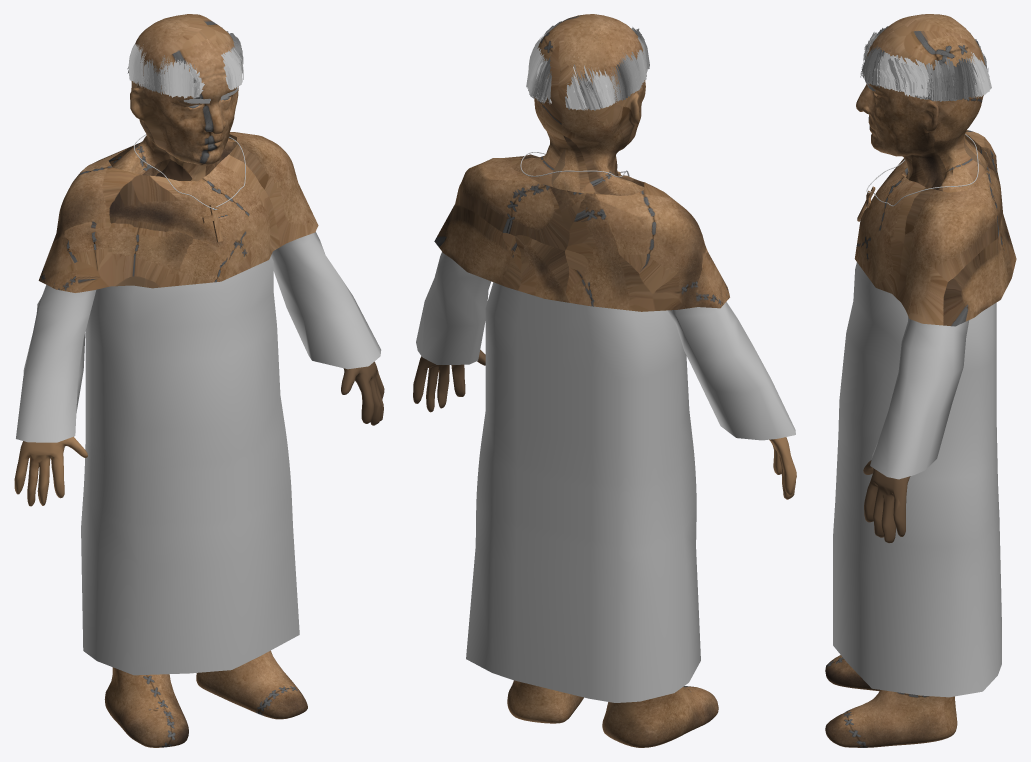
Rendered from Priest fbx model.fbx.
3 views of the same model, side by side, from view 1: azimuth 30°, elevation 25°; view 2: azimuth 150°, elevation 25°; view 3: azimuth 270°, elevation 25° (orthographic). The views are drawn at different scales.
Visible parts, largest first — view 1: Plane.001, Plane.002, Low poly, Plane.003, Plane.004, Mesh; view 2: Plane.001, Plane.002, Low poly, Plane.003, Plane.004, Mesh; view 3: Plane.001, Plane.002, Low poly, Plane.003, Plane.004, Mesh.
Boxes of the visible parts, x1,y1,x2,y2 form: Plane.001: [81, 256, 299, 675]; Plane.002: [38, 132, 318, 292]; Low poly: [14, 14, 384, 506]; Plane.003: [16, 232, 381, 442]; Plane.004: [104, 650, 307, 747]; Mesh: [127, 27, 243, 98]; Plane.001: [466, 282, 700, 702]; Plane.002: [434, 154, 729, 311]; Low poly: [413, 14, 796, 499]; Plane.003: [416, 252, 795, 440]; Plane.004: [507, 680, 718, 747]; Mesh: [526, 21, 649, 110]; Plane.001: [833, 262, 1001, 697]; Plane.002: [854, 130, 1016, 326]; Low poly: [856, 14, 988, 543]; Plane.003: [870, 316, 969, 479]; Plane.004: [825, 655, 957, 747]; Mesh: [860, 26, 991, 101].
Bounding box in the file's own units: 487 × 860 × 216.
